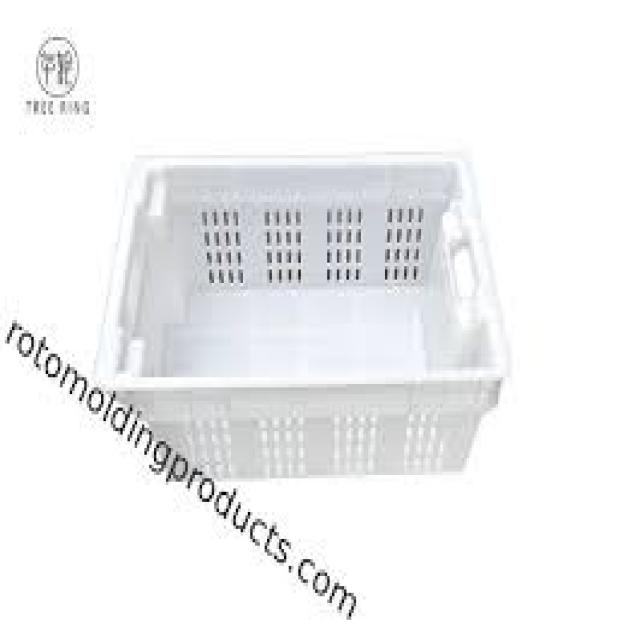basket: (96, 157, 509, 480)
